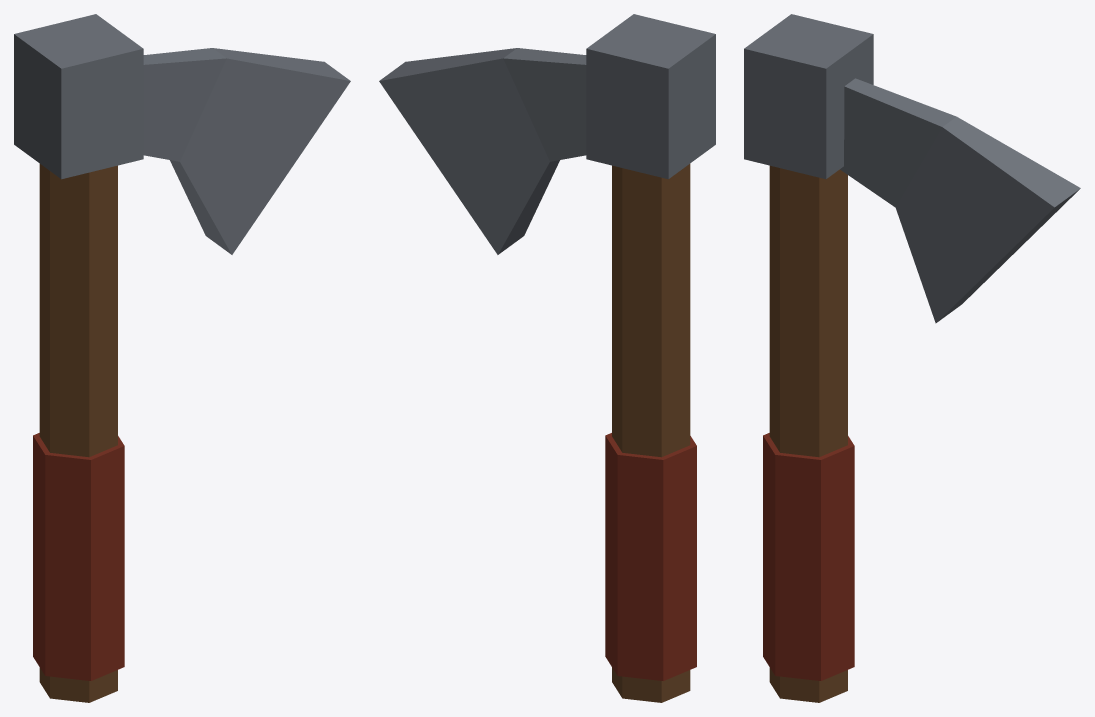
Rendered from gear_knife.glb.
3 renders of one model, left to right at view 1: azimuth 30°, elevation 25°; view 2: azimuth 150°, elevation 25°; view 3: azimuth 330°, elevation 25°, orthographic.
Parts seen in each view (by area): view 1: dwarf_gear_knife; view 2: dwarf_gear_knife; view 3: dwarf_gear_knife.
Boxes of the visible parts, x1=… form: dwarf_gear_knife: x1=14, y1=14, x2=350, y2=702; dwarf_gear_knife: x1=379, y1=14, x2=715, y2=702; dwarf_gear_knife: x1=744, y1=14, x2=1080, y2=702.
Bounding box in the file's own units: 0.1534 × 0.315 × 0.042.
